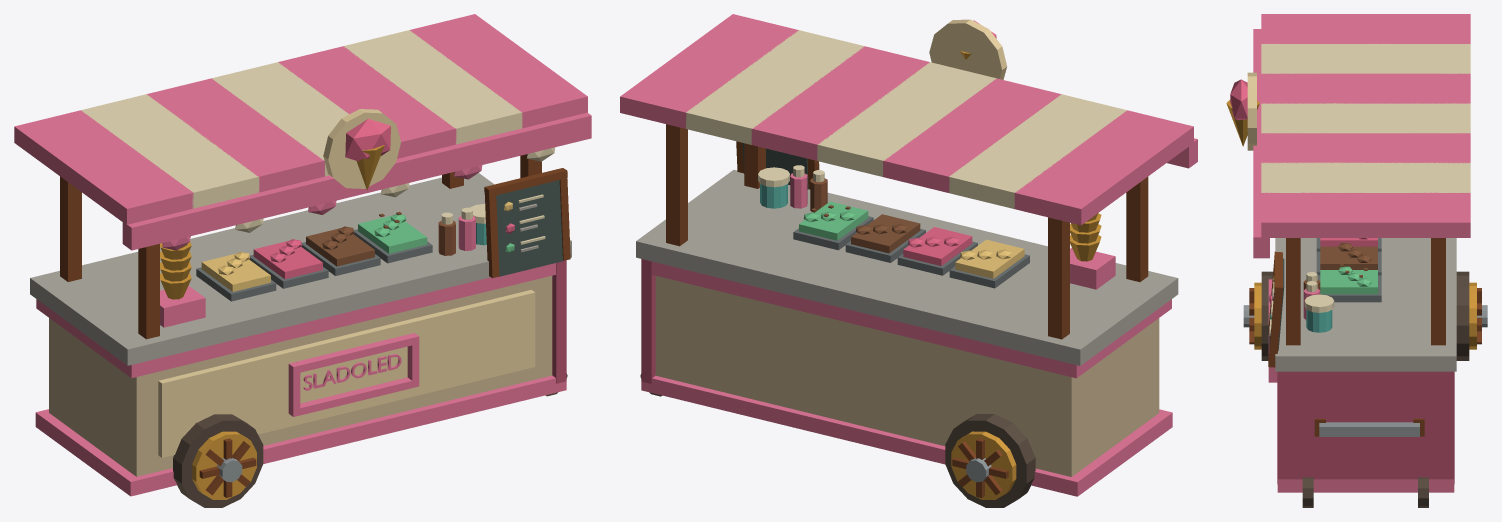
The model's file is IceCreamCart.glb.
3 views of the same model, side by side, from view 1: azimuth 30°, elevation 25°; view 2: azimuth 150°, elevation 25°; view 3: azimuth 270°, elevation 25° (orthographic). The views are drawn at different scales.
Visible parts, largest first — view 1: IceCreamCart_countertop_gray, IceCreamCart_front_panel_large, IceCreamCart_cart_body_cream, IceCreamCart_awning_front_valance, IceCreamCart_awning_stripe_1, IceCreamCart_bottom_pink_trim, IceCreamCart_awning_stripe_6, IceCreamCart_awning_stripe_7, IceCreamCart_awning_stripe_2, IceCreamCart_awning_stripe_3, IceCreamCart_awning_stripe_5, IceCreamCart_top_pink_trim (+25 smaller); view 2: IceCreamCart_cart_body_cream, IceCreamCart_countertop_gray, IceCreamCart_awning_stripe_1, IceCreamCart_bottom_pink_trim, IceCreamCart_awning_stripe_4, IceCreamCart_awning_stripe_6, IceCreamCart_awning_stripe_7, IceCreamCart_awning_stripe_2, IceCreamCart_awning_stripe_5, IceCreamCart_awning_stripe_3, IceCreamCart_top_pink_trim, IceCreamCart_emblem_back_plate (+17 smaller); view 3: IceCreamCart_thin_side_trim, IceCreamCart_countertop_gray, IceCreamCart_awning_stripe_7, IceCreamCart_awning_stripe_4, IceCreamCart_awning_stripe_3, IceCreamCart_awning_stripe_6, IceCreamCart_awning_stripe_5, IceCreamCart_awning_stripe_1, IceCreamCart_awning_stripe_2, IceCreamCart_bottom_pink_trim, IceCreamCart_awning_front_valance, IceCreamCart_wood_post_2 (+19 smaller).
Part boxes in pixels (bbox=[...]): IceCreamCart_countertop_gray: bbox=[30, 173, 571, 365]; IceCreamCart_front_panel_large: bbox=[158, 290, 535, 457]; IceCreamCart_cart_body_cream: bbox=[49, 275, 552, 476]; IceCreamCart_awning_front_valance: bbox=[122, 112, 591, 250]; IceCreamCart_awning_stripe_1: bbox=[14, 110, 193, 224]; IceCreamCart_bottom_pink_trim: bbox=[35, 375, 566, 496]; IceCreamCart_awning_stripe_6: bbox=[343, 30, 522, 144]; IceCreamCart_awning_stripe_7: bbox=[410, 14, 587, 128]; IceCreamCart_awning_stripe_2: bbox=[81, 94, 259, 208]; IceCreamCart_awning_stripe_3: bbox=[147, 78, 324, 192]; IceCreamCart_awning_stripe_5: bbox=[278, 46, 456, 158]; IceCreamCart_top_pink_trim: bbox=[36, 263, 555, 377]; IceCreamCart_cart_body_cream: bbox=[655, 276, 1159, 476]; IceCreamCart_countertop_gray: bbox=[636, 170, 1178, 365]; IceCreamCart_awning_stripe_1: bbox=[1014, 110, 1193, 225]; IceCreamCart_bottom_pink_trim: bbox=[641, 375, 1172, 496]; IceCreamCart_awning_stripe_4: bbox=[817, 62, 996, 176]; IceCreamCart_awning_stripe_6: bbox=[686, 30, 864, 144]; IceCreamCart_awning_stripe_7: bbox=[620, 14, 798, 128]; IceCreamCart_awning_stripe_2: bbox=[949, 94, 1126, 208]; IceCreamCart_awning_stripe_5: bbox=[751, 46, 929, 160]; IceCreamCart_awning_stripe_3: bbox=[883, 78, 1061, 192]; IceCreamCart_top_pink_trim: bbox=[652, 261, 1171, 378]; IceCreamCart_emblem_back_plate: bbox=[929, 19, 1007, 79]; IceCreamCart_thin_side_trim: bbox=[1277, 371, 1454, 483]; IceCreamCart_countertop_gray: bbox=[1275, 238, 1456, 371]; IceCreamCart_awning_stripe_7: bbox=[1261, 192, 1470, 237]; IceCreamCart_awning_stripe_4: bbox=[1261, 103, 1470, 133]; IceCreamCart_awning_stripe_3: bbox=[1261, 73, 1470, 103]; IceCreamCart_awning_stripe_6: bbox=[1261, 162, 1470, 192]; IceCreamCart_awning_stripe_5: bbox=[1261, 133, 1470, 163]; IceCreamCart_awning_stripe_1: bbox=[1261, 14, 1470, 43]; IceCreamCart_awning_stripe_2: bbox=[1261, 44, 1470, 73]; IceCreamCart_bottom_pink_trim: bbox=[1277, 479, 1454, 492]; IceCreamCart_awning_front_valance: bbox=[1253, 29, 1269, 258]; IceCreamCart_wood_post_2: bbox=[1286, 238, 1300, 345].
Size of the model in its own units: 5.33 by 4.05 by 2.81.
